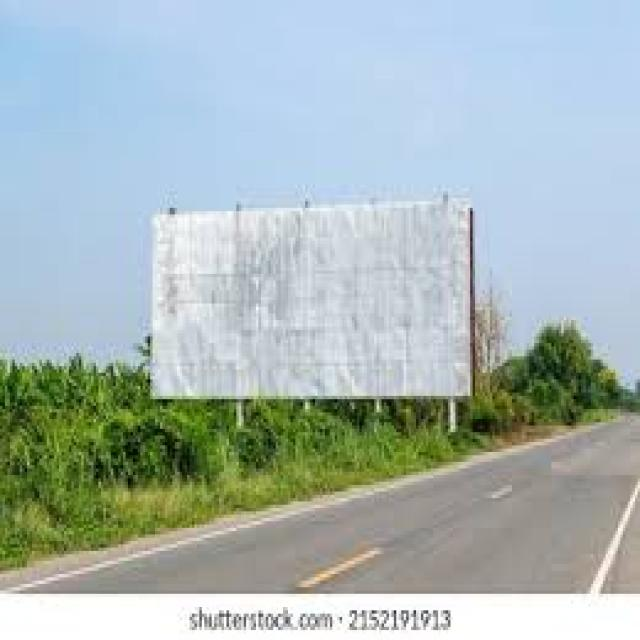Billboard_LHS: (142, 192, 480, 416)
Roadcorner: (38, 422, 571, 589)
Roadlane: (290, 444, 610, 596)
